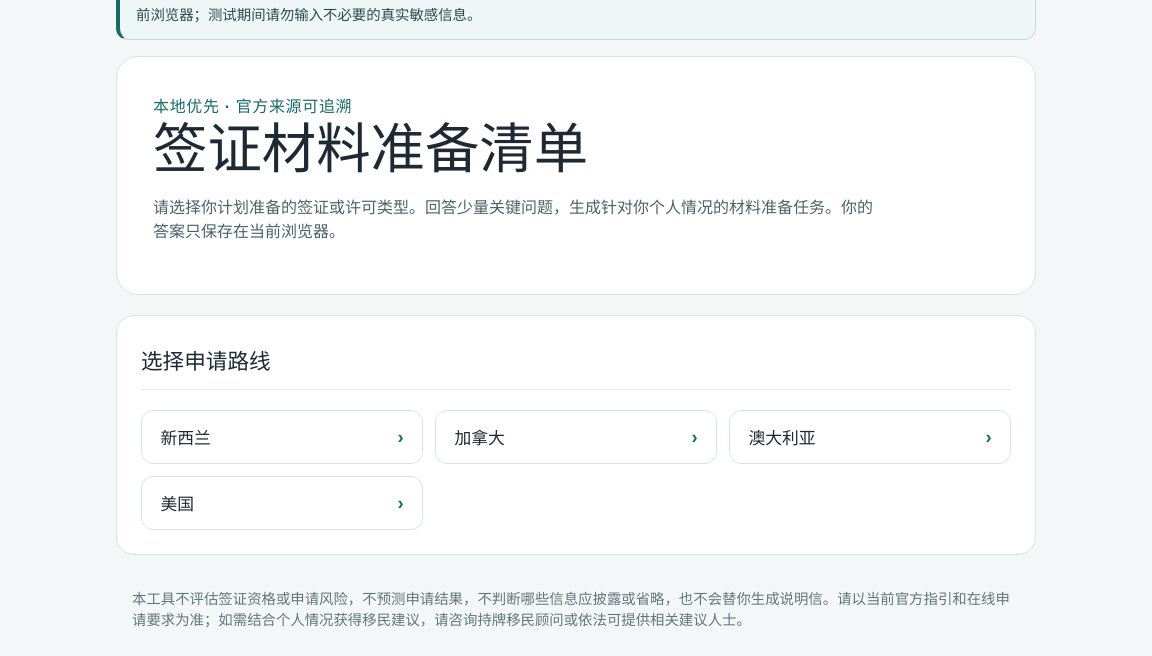
it: App persistence hardening › Candidate 5 Slice 5C1 — Applicant Selection Flow and Bootstrap Isolation › 6. workspace load failure with no existing project causes applicant creation to fail closed
Click the button "新西兰 ›".
click(186, 438)  # box x1=141 y1=410 x2=423 y2=464
(page scrolled)
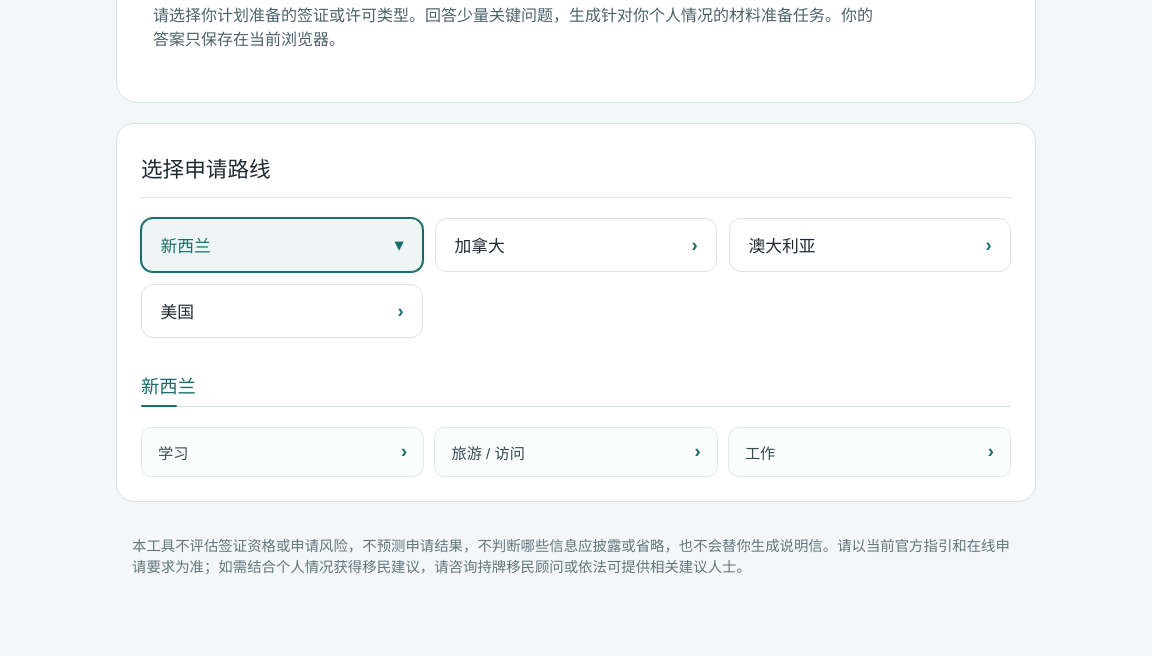
Click the button "学习 ›".
click(173, 453)  # box x1=141 y1=426 x2=424 y2=476
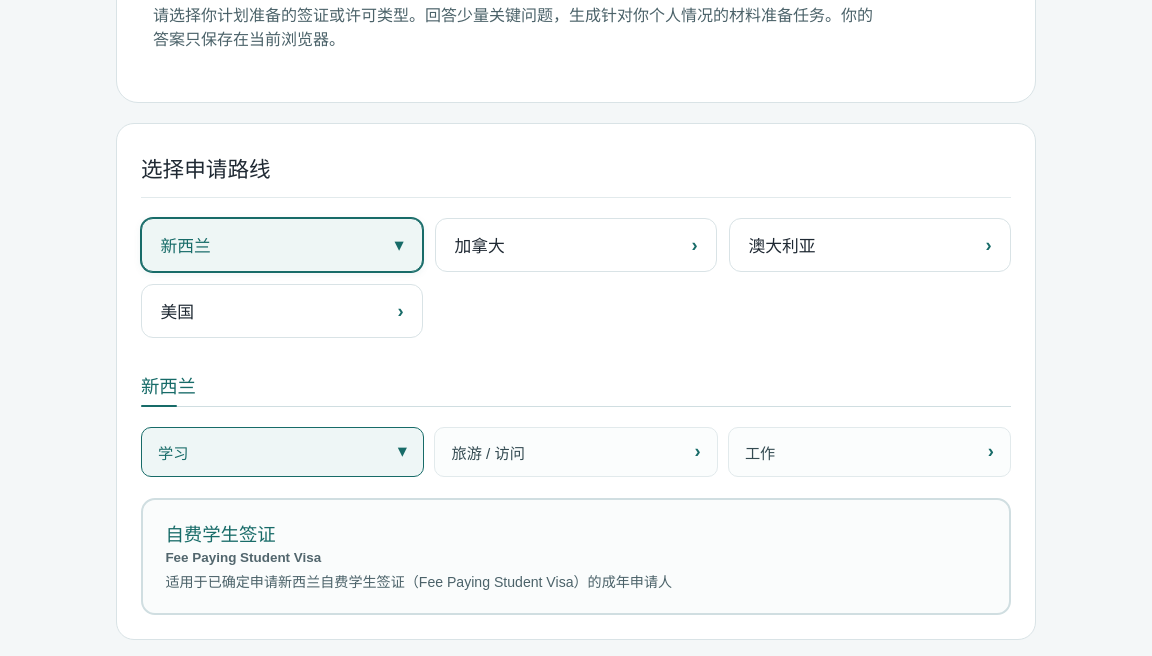
Click the button with aria-label "新西兰 · 学习 · 自费学生签证".
click(221, 535)  # box x1=141 y1=498 x2=1011 y2=615
(page scrolled)
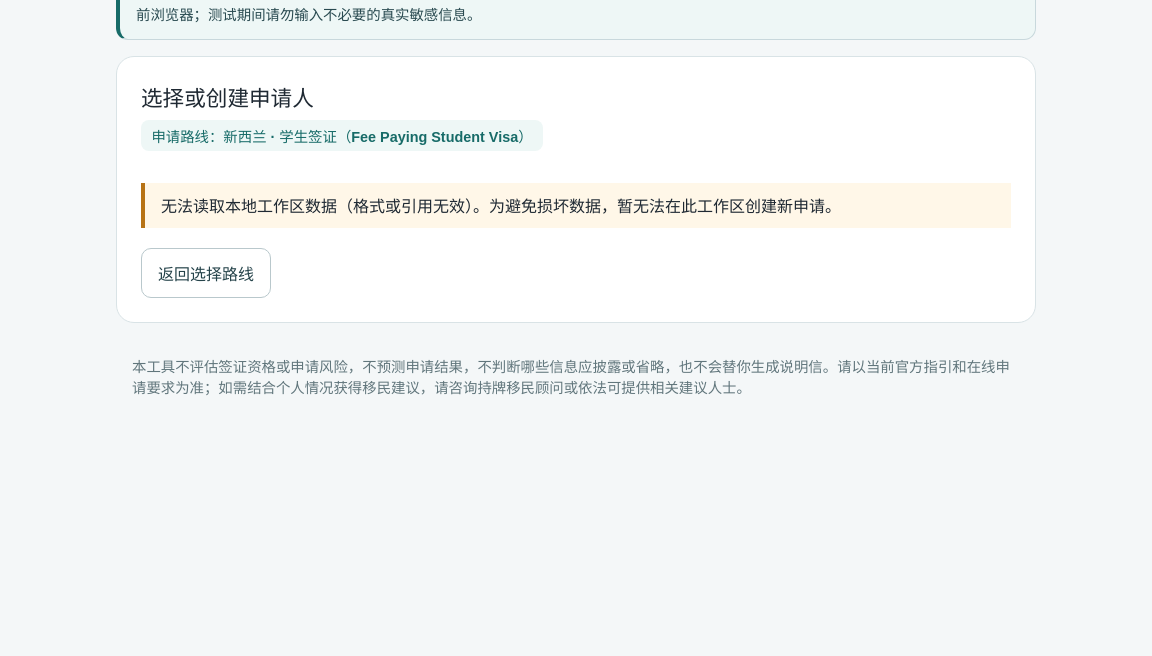
Result: the heading "选择或创建申请人" is shown at x1=141 y1=86 x2=314 y2=111
Result: the text "无法读取本地工作区数据（格式或引用无效）。为避免损坏数据，暂无法在此工作区创建新申请。" is shown at x1=141 y1=183 x2=1011 y2=228
